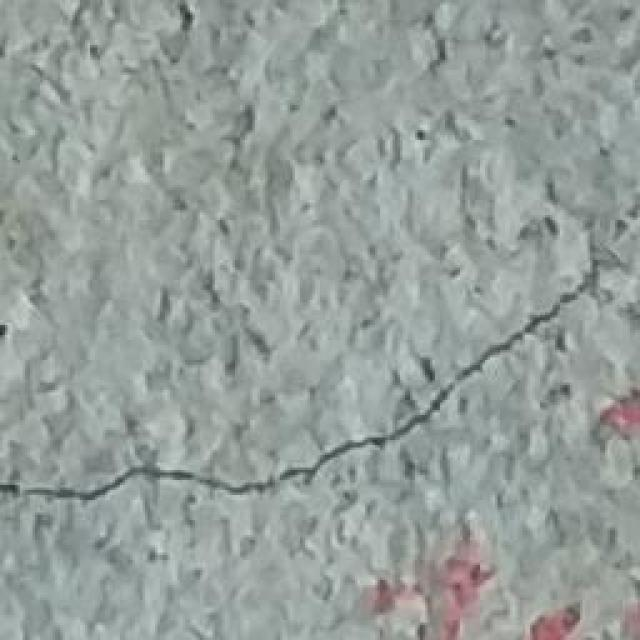Transverse: (1, 192, 629, 518)
